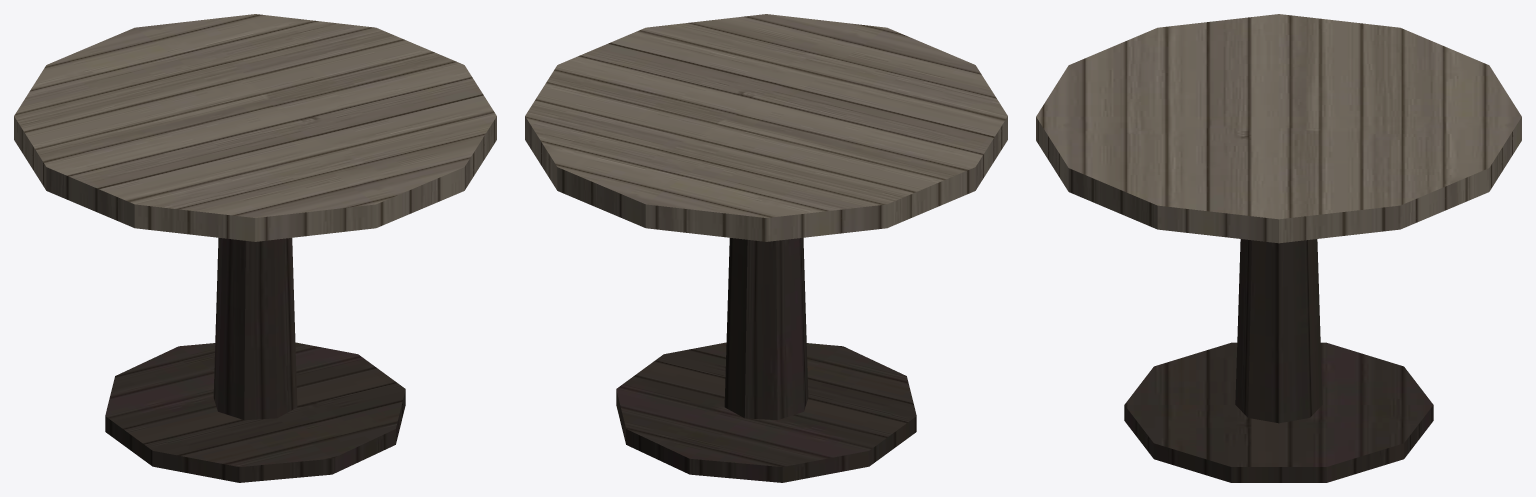
Rendered from table_round_01.glb.
The picture shows the model from 3 angles, left to right: view 1: azimuth 30°, elevation 25°; view 2: azimuth 150°, elevation 25°; view 3: azimuth 270°, elevation 25°; orthographic projection.
Parts seen in each view (by area): view 1: table_round_01; view 2: table_round_01; view 3: table_round_01.
Boxes of the visible parts, bbox=[...] form: table_round_01: bbox=[14, 14, 496, 482]; table_round_01: bbox=[525, 14, 1007, 482]; table_round_01: bbox=[1036, 14, 1521, 482].
Bounding box in the file's own units: 1.1 × 0.76 × 1.1.
2 materials, 2 textured.
